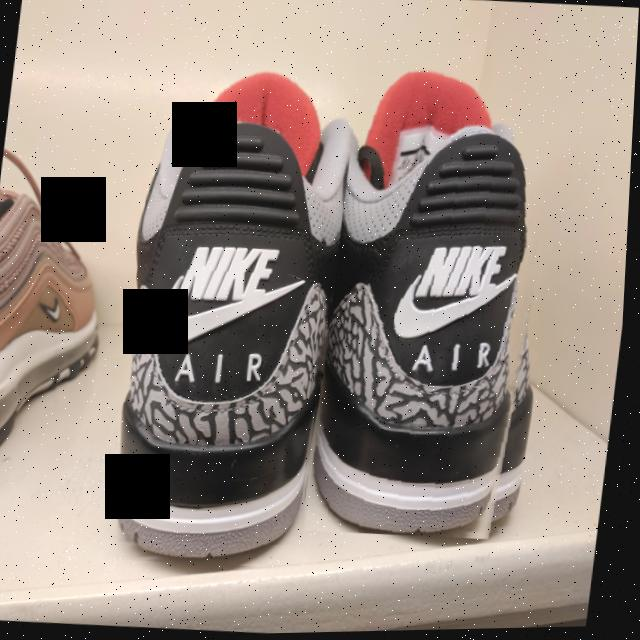shoe: (309, 57, 578, 547), (107, 61, 360, 573)
